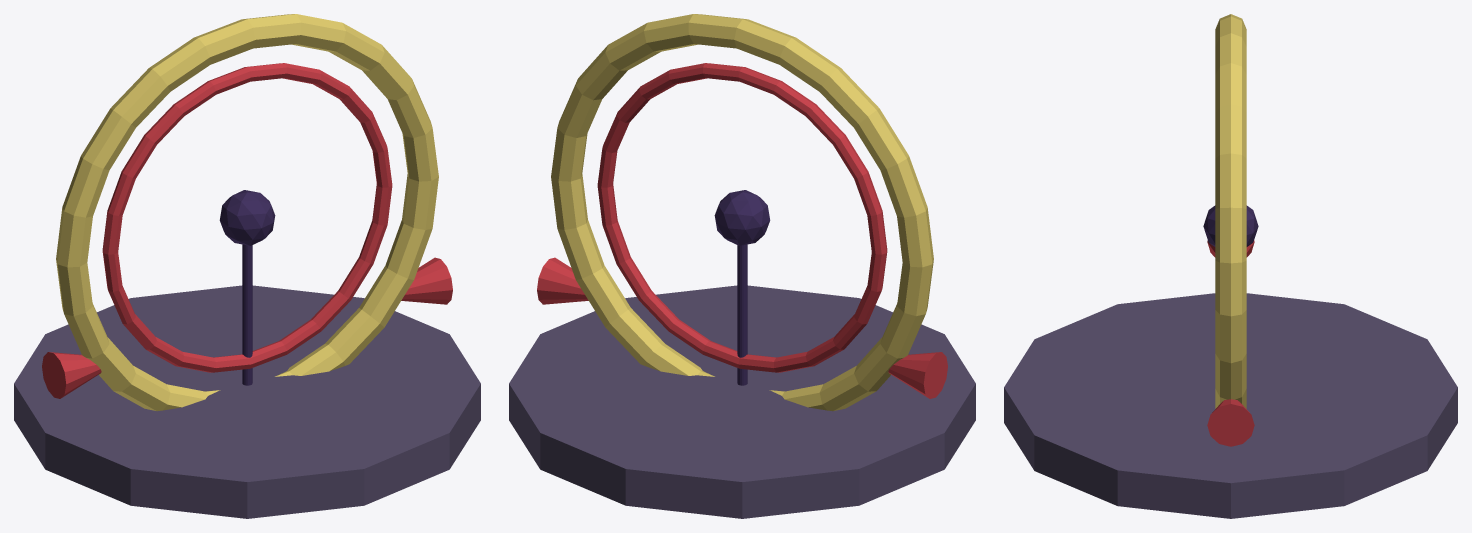
The model's file is gate-zenith.glb.
3 views of the same model, side by side, from view 1: azimuth 30°, elevation 25°; view 2: azimuth 150°, elevation 25°; view 3: azimuth 270°, elevation 25° (orthographic). The views are drawn at different scales.
Parts seen in each view (by area): view 1: zenith-dais, zenith-gate-ring-outer, zenith-gate-ring-inner, zenith-echo-deep-core, zenith-sigil-spike-0, zenith-sigil-spike-1, zenith-core-pillar; view 2: zenith-dais, zenith-gate-ring-outer, zenith-gate-ring-inner, zenith-echo-deep-core, zenith-sigil-spike-0, zenith-sigil-spike-1, zenith-core-pillar; view 3: zenith-dais, zenith-gate-ring-outer, zenith-sigil-spike-1, zenith-echo-deep-core.
Boxes of the visible parts, x1,y1,x2,y2 form: zenith-dais: (14, 285, 480, 518); zenith-gate-ring-outer: (56, 14, 438, 411); zenith-gate-ring-inner: (102, 63, 392, 372); zenith-echo-deep-core: (219, 190, 275, 245); zenith-sigil-spike-0: (42, 352, 101, 398); zenith-sigil-spike-1: (401, 257, 452, 304); zenith-core-pillar: (242, 244, 252, 385); zenith-dais: (509, 285, 975, 518); zenith-gate-ring-outer: (551, 14, 933, 411); zenith-gate-ring-inner: (597, 63, 887, 372); zenith-echo-deep-core: (714, 190, 770, 245); zenith-sigil-spike-0: (888, 352, 947, 398); zenith-sigil-spike-1: (537, 257, 588, 304); zenith-core-pillar: (737, 244, 747, 385); zenith-dais: (1004, 293, 1457, 518); zenith-gate-ring-outer: (1215, 14, 1246, 408); zenith-sigil-spike-1: (1207, 399, 1254, 446); zenith-echo-deep-core: (1203, 205, 1258, 246).
Size of the model in its own units: 2.3 by 2.18 by 2.3.
